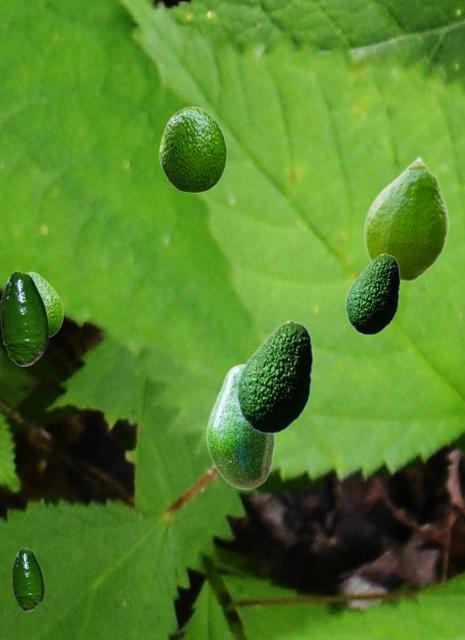avocado: (363, 155, 448, 281), (205, 363, 274, 489), (236, 320, 312, 433), (159, 106, 226, 192), (0, 271, 48, 365), (345, 253, 399, 334), (26, 271, 62, 337), (12, 548, 43, 610)
